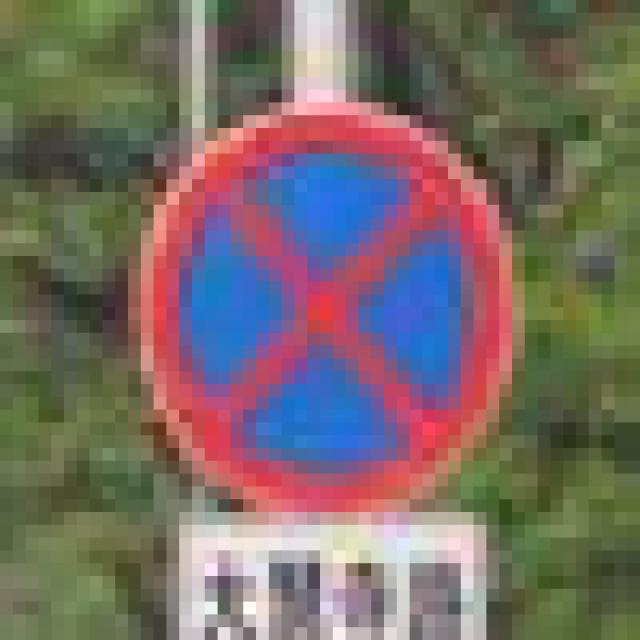NO_STOPPING_OR_STANDING: (115, 90, 512, 499)
